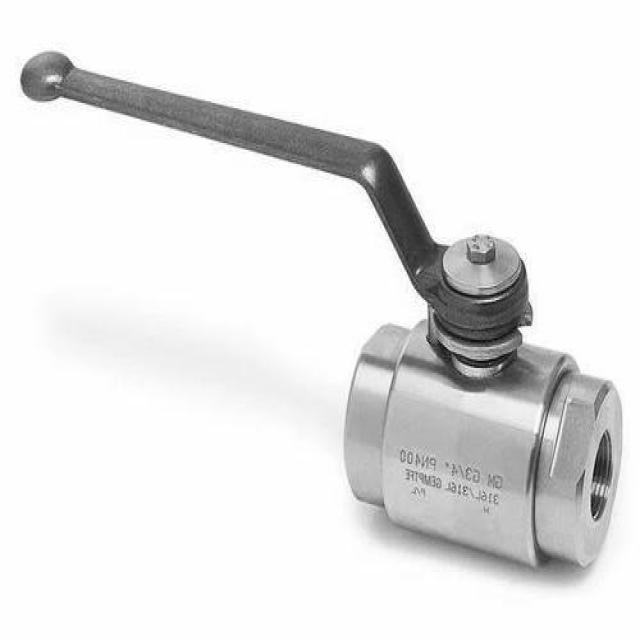opened_valve: (18, 47, 624, 575)
